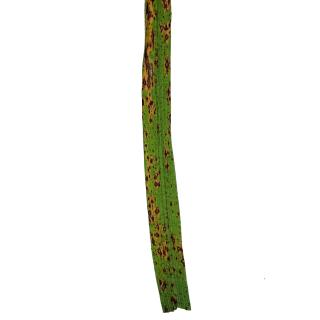Blast: (156, 232, 180, 279), (146, 187, 168, 232), (145, 152, 164, 189), (142, 90, 155, 128), (145, 52, 153, 91), (145, 1, 156, 19), (163, 277, 168, 312), (150, 29, 157, 45), (170, 297, 182, 306), (163, 59, 170, 74), (162, 1, 170, 12), (158, 24, 166, 33), (164, 34, 169, 42)
